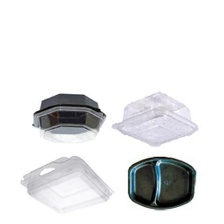plastic_box: (12, 153, 118, 219), (107, 87, 204, 150), (25, 88, 110, 149), (121, 151, 199, 217)
